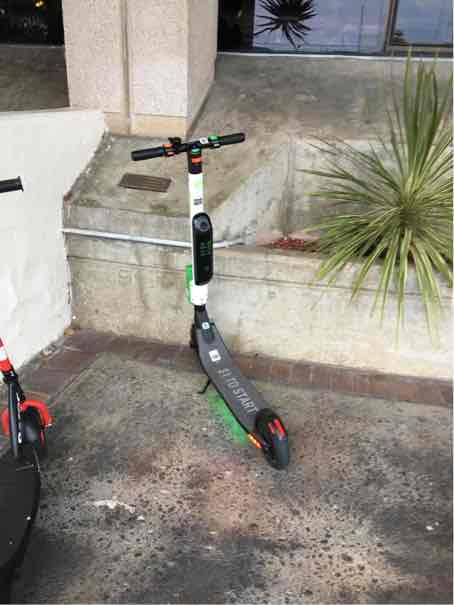scooter: (126, 121, 306, 473)
